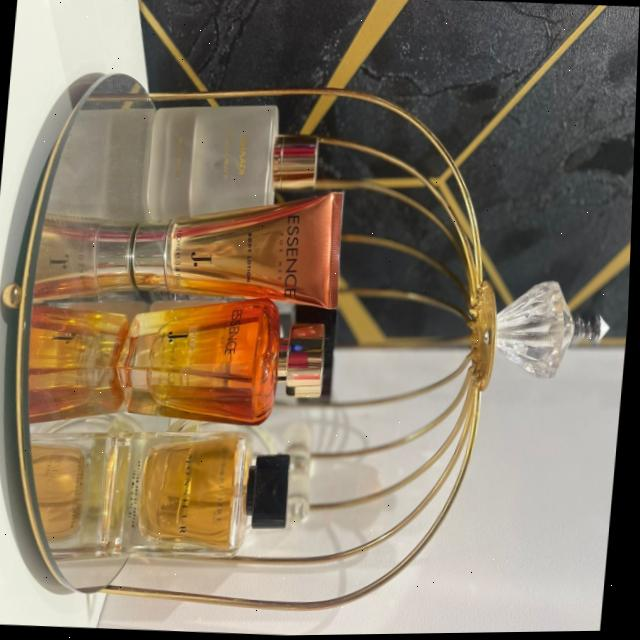lotion: (124, 174, 354, 317)
perfume: (93, 421, 314, 580), (110, 293, 342, 437), (139, 100, 330, 235)
